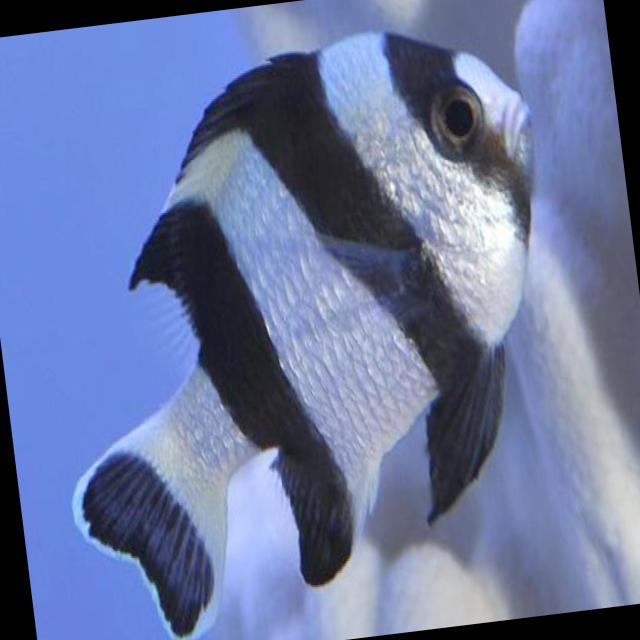ThreeStripedDamselfish: (71, 31, 535, 640)
